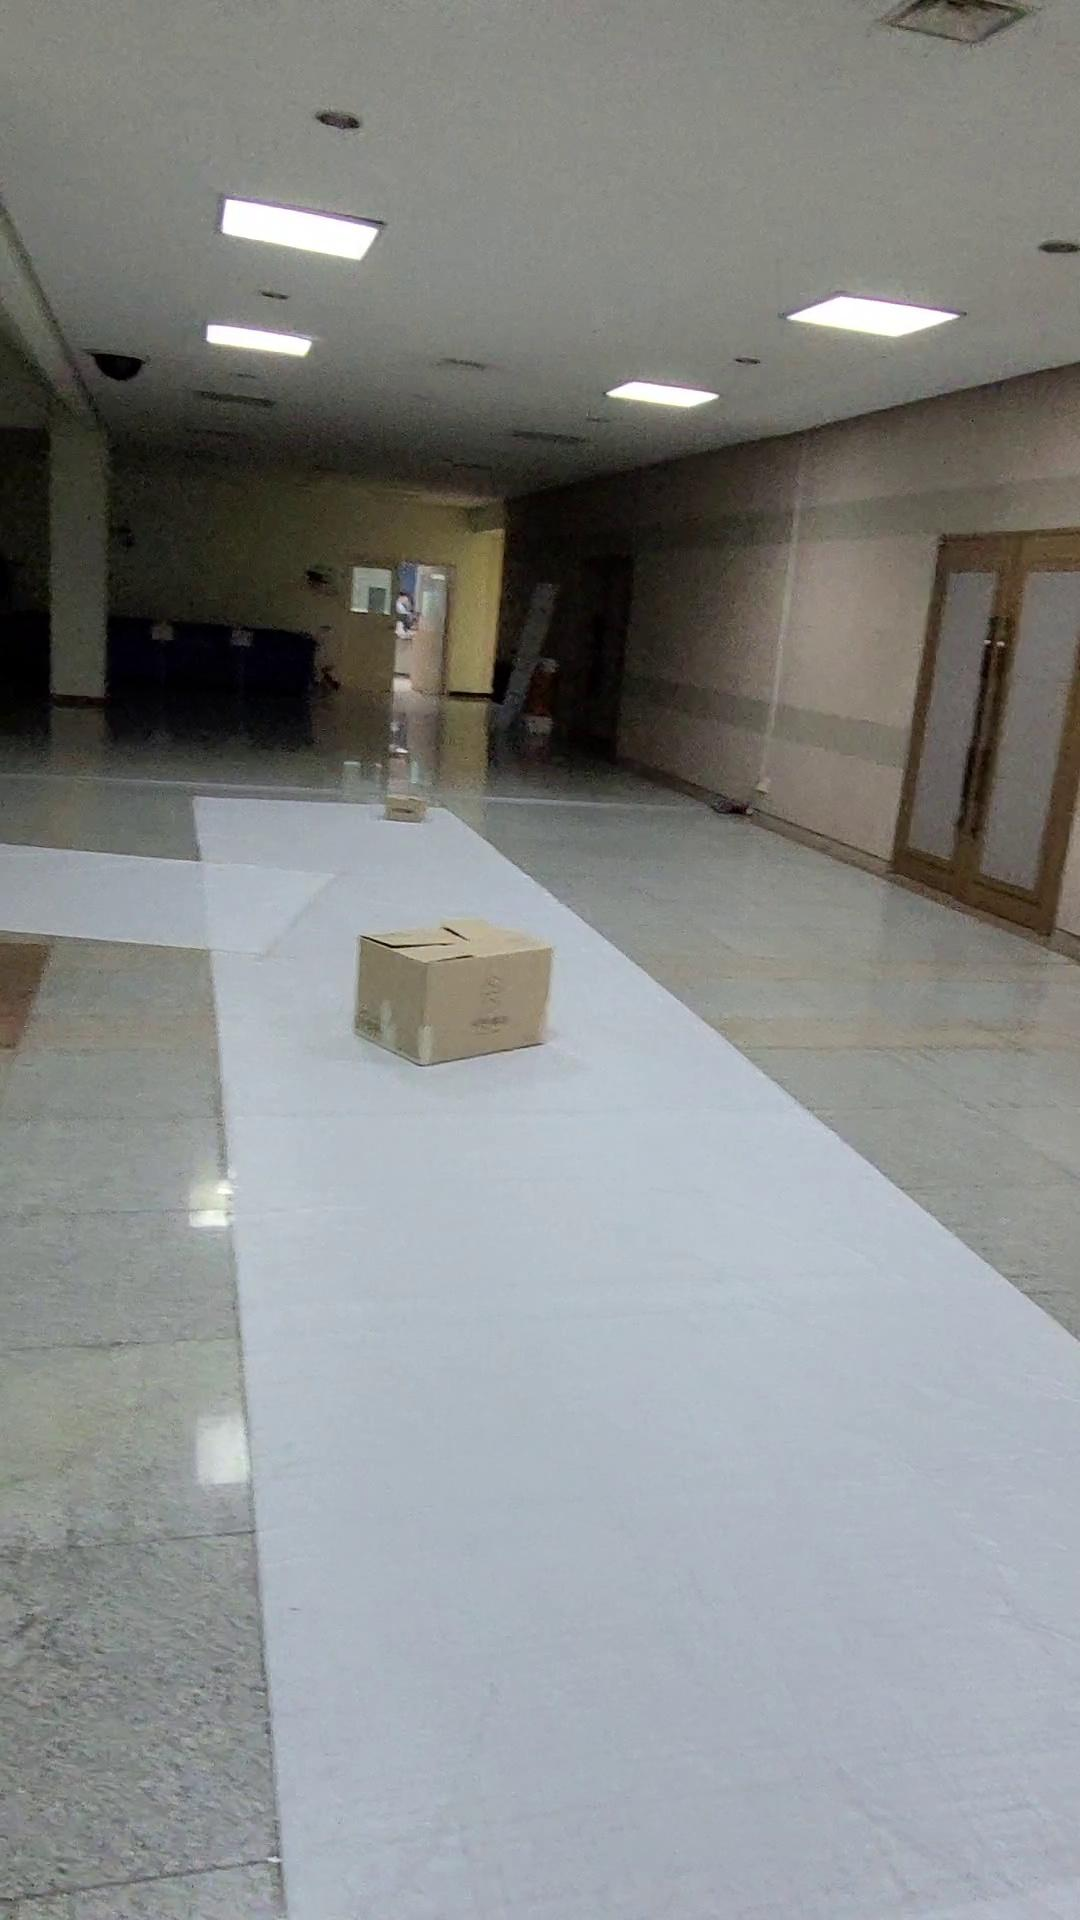Box: (345, 905, 564, 1077), (382, 789, 433, 828)
